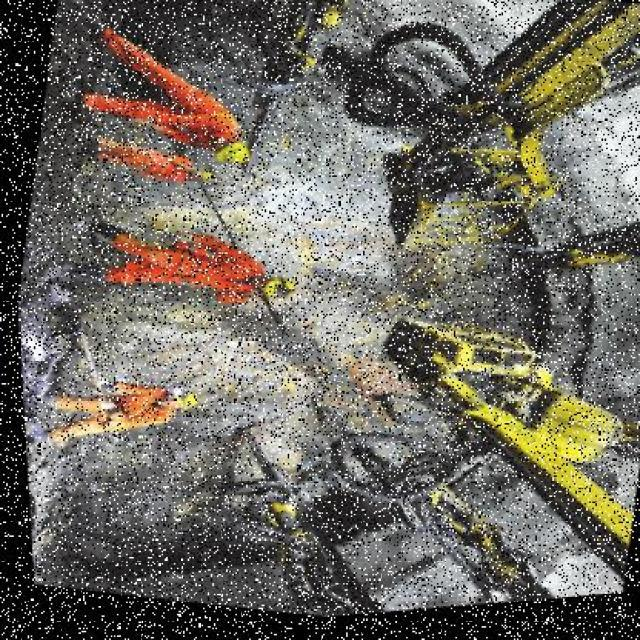helmet: (240, 268, 298, 308), (205, 137, 259, 174)
vest: (163, 243, 263, 313)
